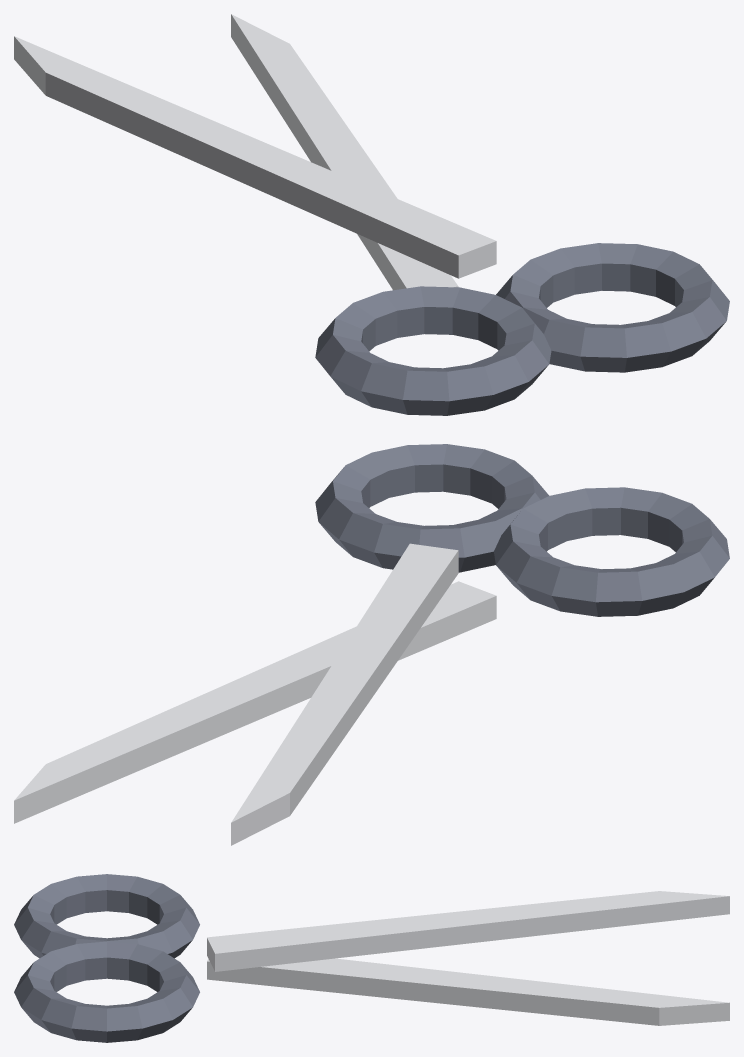
The model's file is shears_held.gltf.
3 views of the same model, one above another, from view 1: azimuth 30°, elevation 25°; view 2: azimuth 150°, elevation 25°; view 3: azimuth 270°, elevation 25° (orthographic). The views are drawn at different scales.
Visible parts, largest first — view 1: animals_shears_held; view 2: animals_shears_held; view 3: animals_shears_held.
Part boxes in pixels (box(x1,y1,x2,y2)): animals_shears_held: box(14, 14, 729, 415); animals_shears_held: box(14, 444, 729, 845); animals_shears_held: box(14, 874, 729, 1042).
Bounding box in the file's own units: 0.104 × 0.014 × 0.2153.
